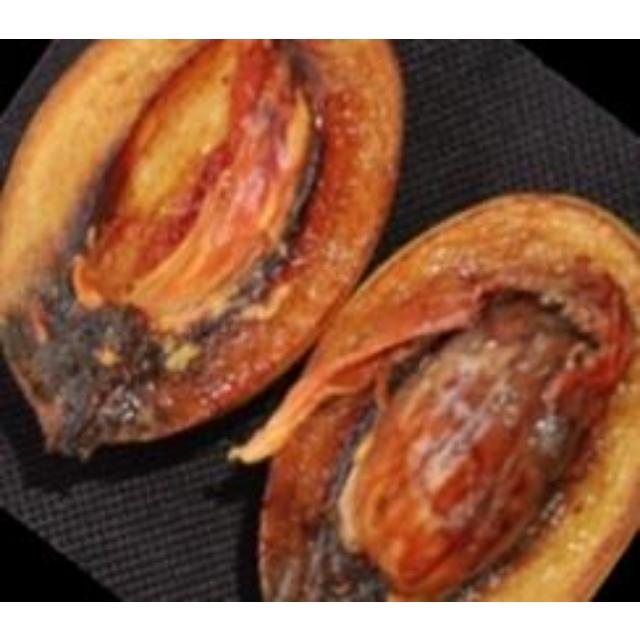damaged: (0, 38, 401, 455), (231, 193, 637, 599)
